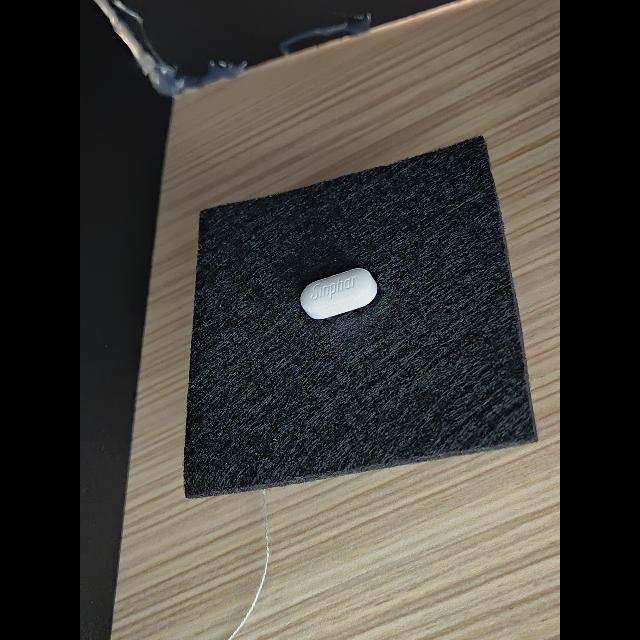Intact Pill: (300, 268, 377, 319)
